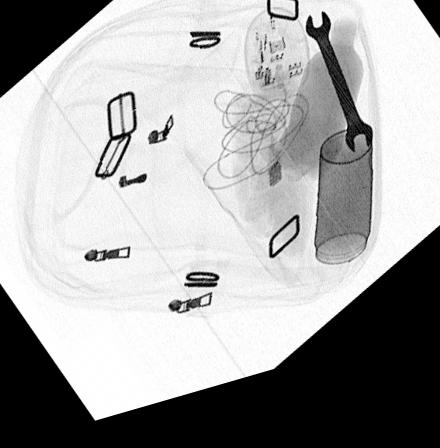Wrench: (303, 30, 374, 173)
